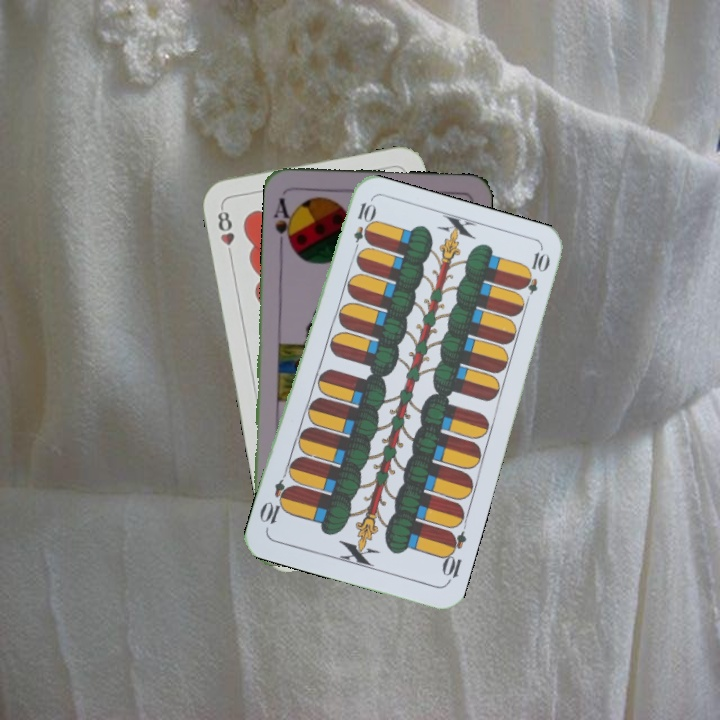E10: (438, 527, 469, 586), (349, 198, 376, 257)
H8: (213, 203, 237, 262)
SA: (270, 194, 297, 250)
